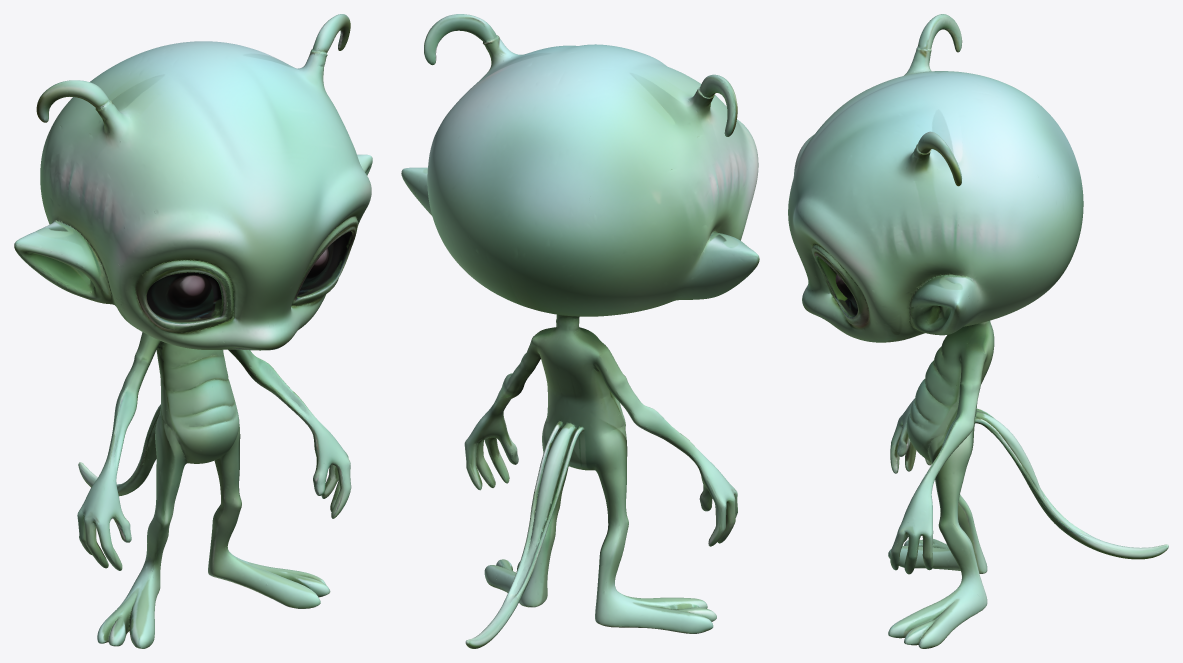
The model's file is crafter-npc-alie.glb.
The picture shows the model from 3 angles, left to right: view 1: azimuth 30°, elevation 25°; view 2: azimuth 150°, elevation 25°; view 3: azimuth 270°, elevation 25°; orthographic projection. The views are drawn at different scales.
Parts seen in each view (by area): view 1: model; view 2: model; view 3: model.
Boxes of the visible parts, x1,y1,x2,y2 form: model: [14, 14, 372, 648]; model: [401, 14, 759, 648]; model: [788, 14, 1168, 648].
Bounding box in the file's own units: 1.26 × 1.9 × 1.25.
Materials: 1 (1 with a texture image).
